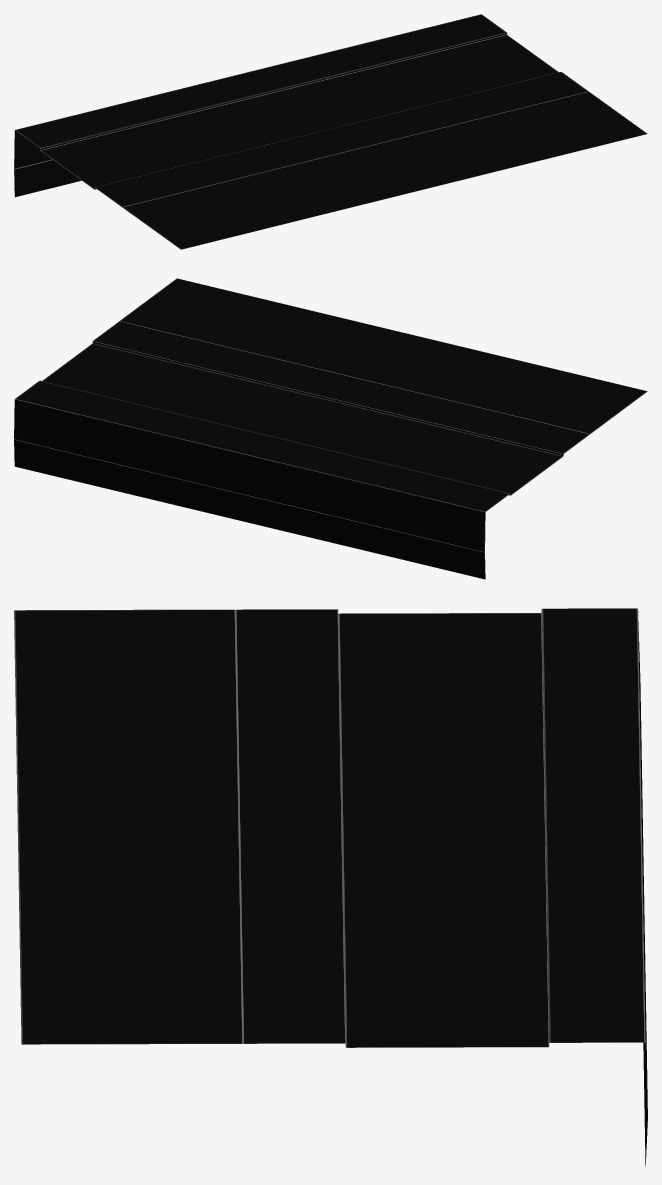
The model's file is stage.fbx.
3 views of the same model, one above another, from view 1: azimuth 30°, elevation 25°; view 2: azimuth 150°, elevation 25°; view 3: azimuth 270°, elevation 25° (orthographic). The views are drawn at different scales.
Visible parts, largest first — view 1: polySurface231; view 2: polySurface231; view 3: polySurface231.
Boxes of the visible parts, x1,y1,x2,y2 form: polySurface231: [14, 14, 647, 249]; polySurface231: [14, 278, 647, 579]; polySurface231: [14, 608, 647, 1166].
Bounding box in the file's own units: 146 × 20 × 89.73.
Materials: 1 (1 with a texture image).
